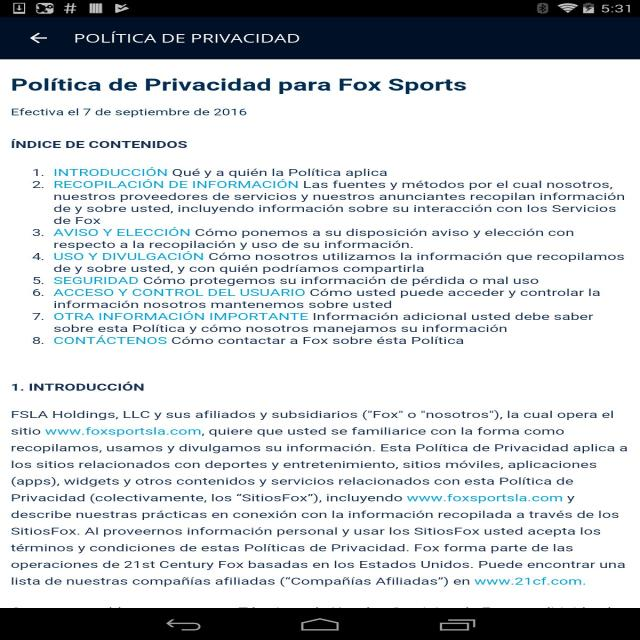button: (21, 26, 56, 49)
heading: (9, 73, 474, 95), (69, 29, 303, 51), (8, 136, 190, 152), (9, 378, 148, 398)
link: (46, 286, 306, 300), (48, 311, 310, 324), (41, 422, 206, 440), (50, 179, 298, 190), (404, 491, 566, 505), (50, 249, 206, 263), (466, 574, 588, 590), (53, 225, 191, 238), (51, 334, 169, 348), (52, 272, 141, 287), (51, 165, 168, 176)
text: (6, 406, 636, 590), (28, 162, 633, 349), (9, 106, 251, 120)
